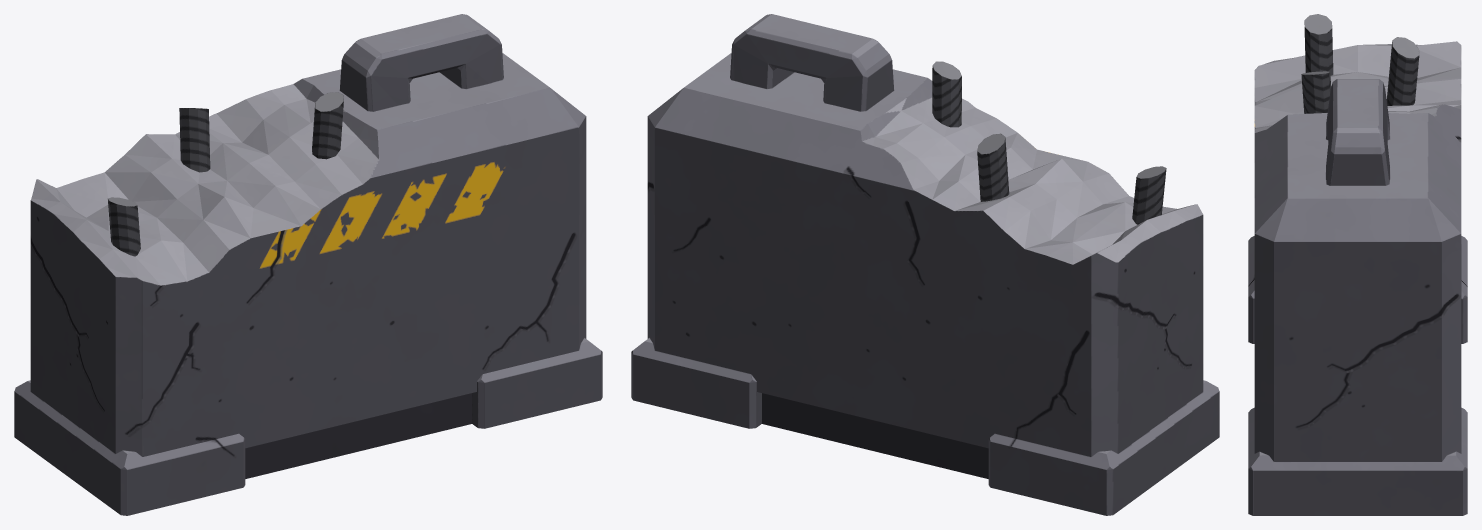
Rendered from Cover_Barrier_Broken.fbx.
3 views of the same model, side by side, from view 1: azimuth 30°, elevation 25°; view 2: azimuth 150°, elevation 25°; view 3: azimuth 270°, elevation 25° (orthographic).
Visible parts, largest first — view 1: Cover_Barrier_Broken; view 2: Cover_Barrier_Broken; view 3: Cover_Barrier_Broken.
Part boxes in pixels (<box>): Cover_Barrier_Broken: <box>14,14,602,515</box>; Cover_Barrier_Broken: <box>631,14,1219,515</box>; Cover_Barrier_Broken: <box>1248,14,1467,515</box>.
Bounding box in the file's own units: 1.7 × 1.2 × 0.68.
1 material, 1 textured.
